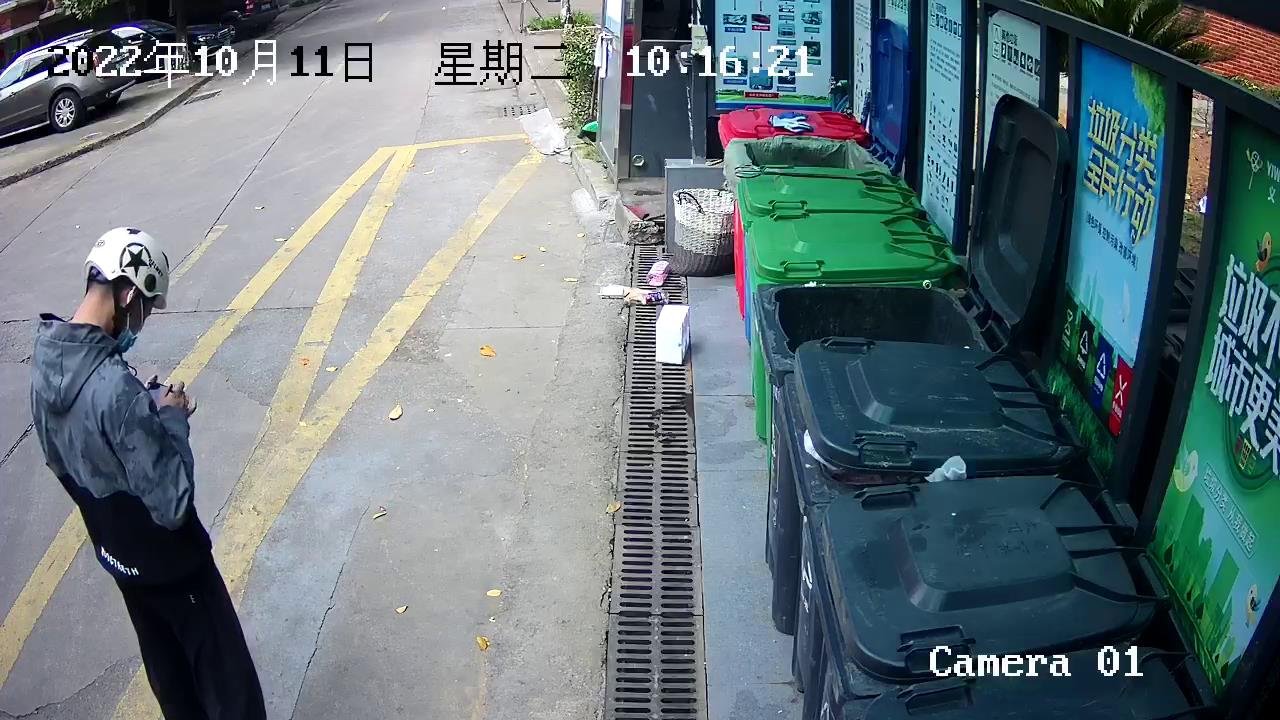person: (22, 219, 276, 720)
suliaozhipin: (643, 258, 673, 290)
zhizhipin: (652, 302, 695, 367)
